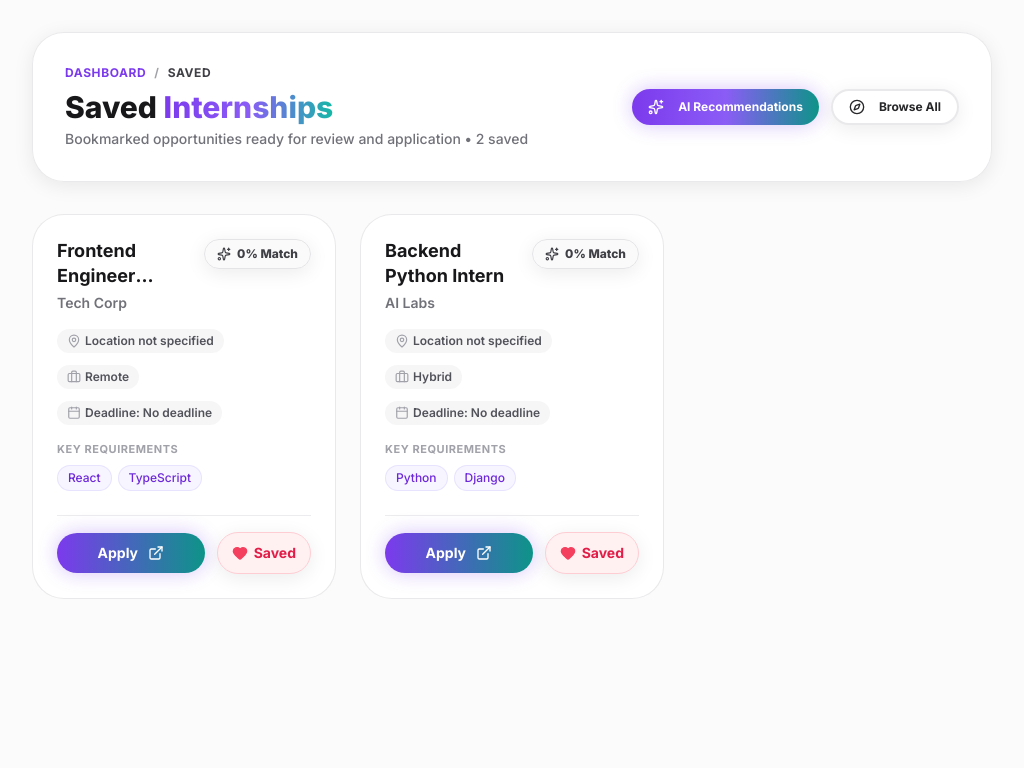
SavedInternshipsPage › keeps item in list and displays error message if unsave API request fails
Check: the heading "Frontend Engineer Intern" is shown, box [57,240,136,310]
Click the button with aria-label "Unsave": [264, 553] box [217,532,311,574]
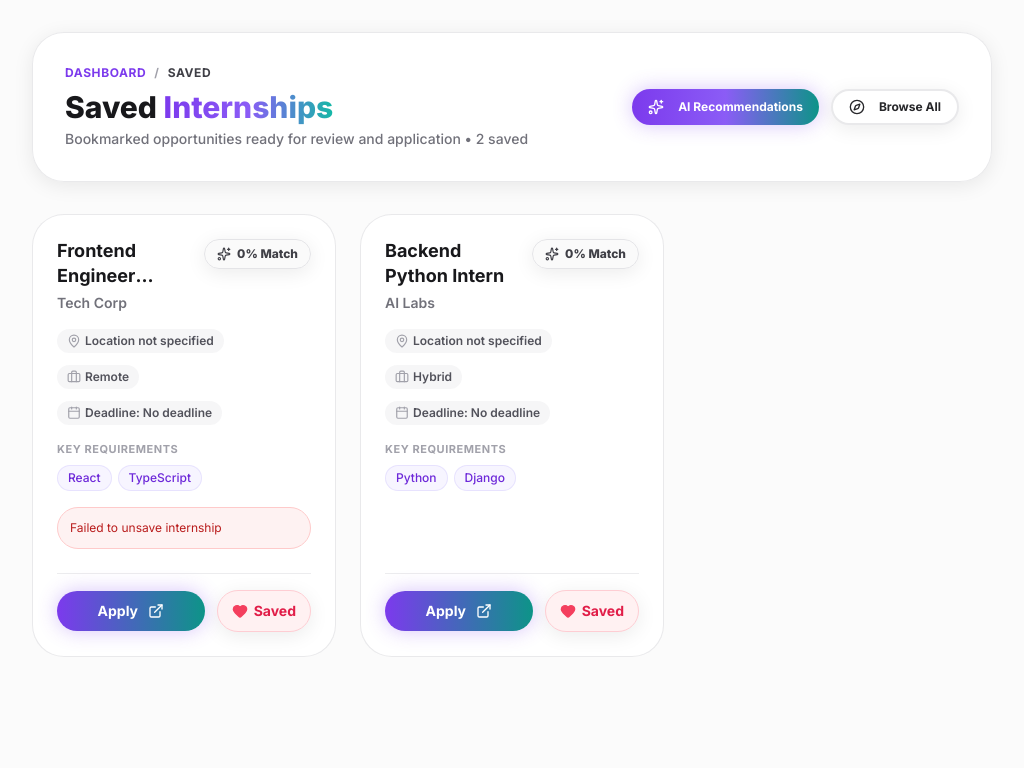
Check: the heading "Frontend Engineer Intern" is shown, box [57,240,136,310]
Check: the text "Failed to unsave internship" is shown, box [57,507,311,549]
